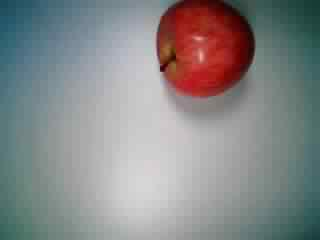apple: (154, 1, 258, 102)
